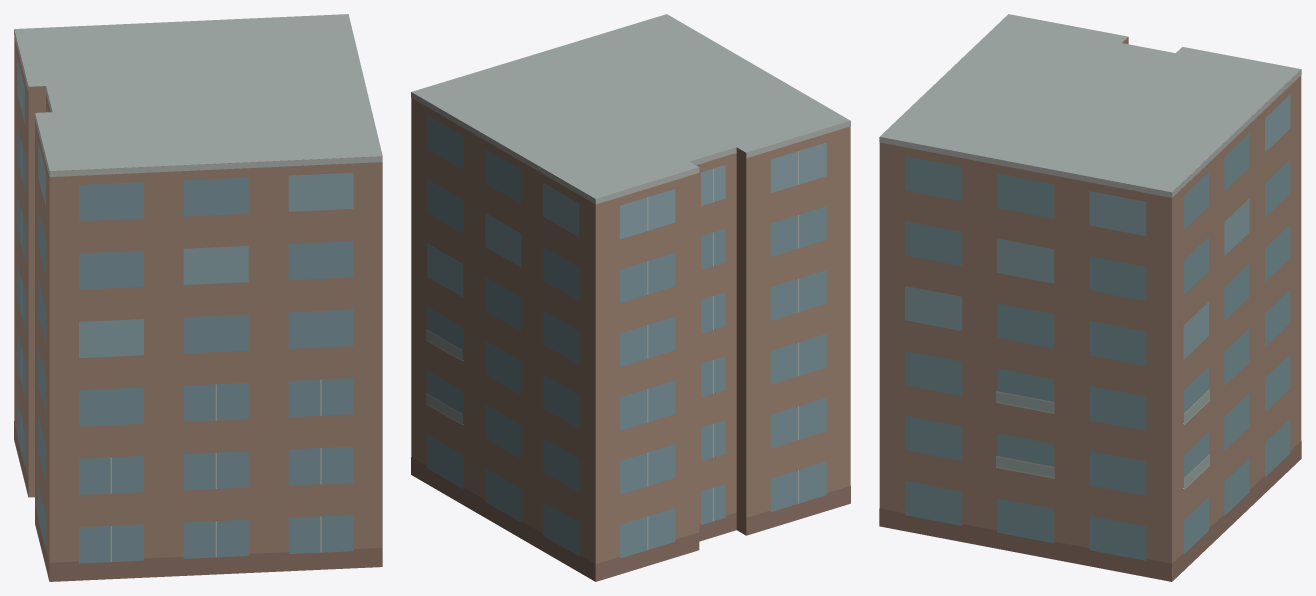
File: survey-upis-33046838.glb
3 renders of one model, left to right at view 1: azimuth 30°, elevation 25°; view 2: azimuth 150°, elevation 25°; view 3: azimuth 270°, elevation 25°, orthographic. The views are drawn at different scales.
Parts seen in each view (by area): view 1: survey-upis-33046838.tmp; view 2: survey-upis-33046838.tmp; view 3: survey-upis-33046838.tmp.
Boxes of the visible parts, x1,y1,x2,y2 form: survey-upis-33046838.tmp: (14, 14, 382, 581); survey-upis-33046838.tmp: (411, 14, 850, 581); survey-upis-33046838.tmp: (879, 14, 1301, 581).
Bounding box in the file's own units: 16.5 × 16.8 × 16.5.
